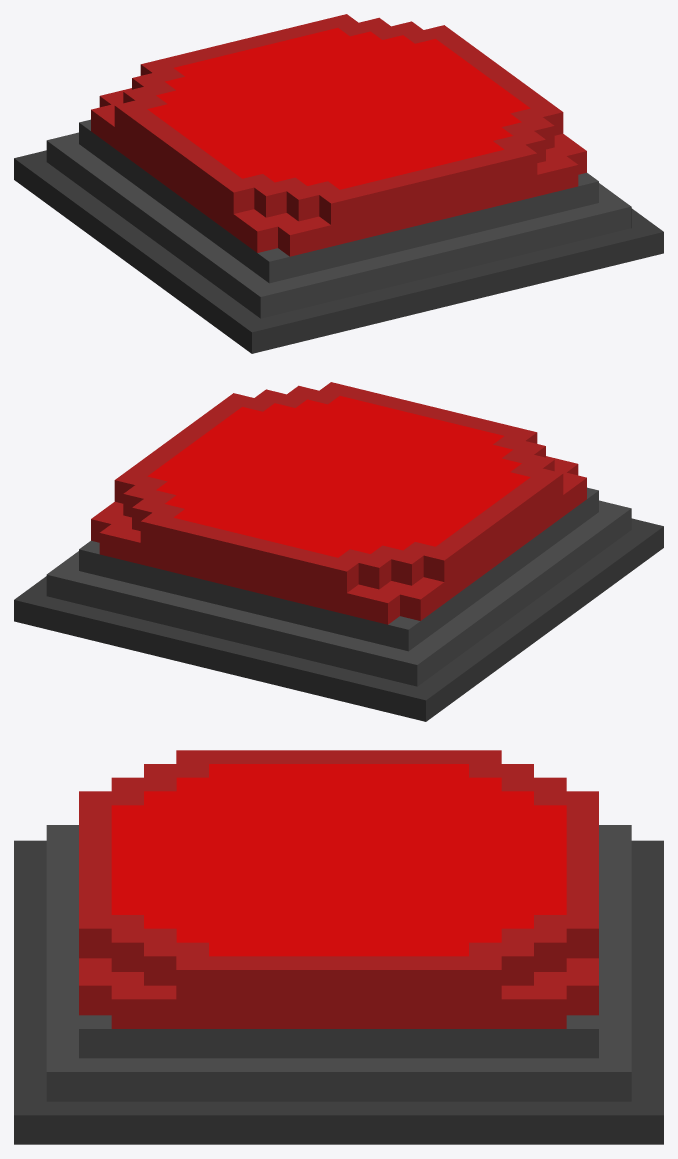
Rendered from redbutton.obj.
3 renders of one model, top to bottom at view 1: azimuth 30°, elevation 25°; view 2: azimuth 150°, elevation 25°; view 3: azimuth 270°, elevation 25°, orthographic. The views are drawn at different scales.
Bounding box in the file's own units: 2 × 0.5 × 2.
1 material, 1 textured.
